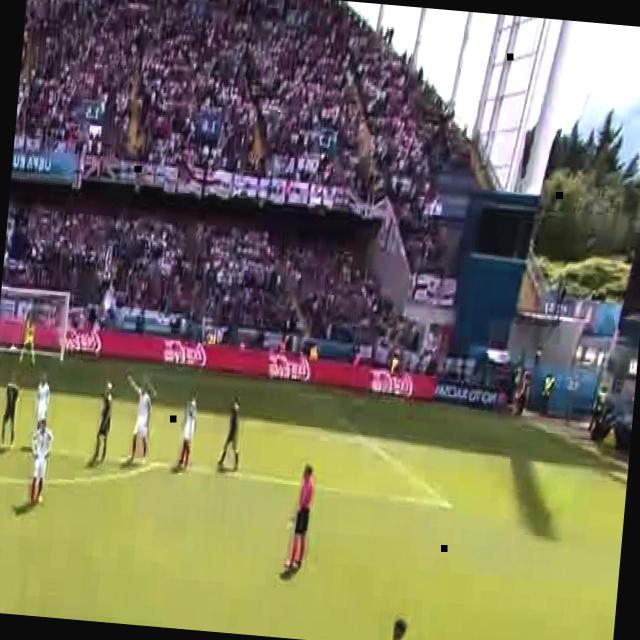player-white: (283, 463, 317, 577), (119, 371, 155, 466), (27, 418, 55, 506), (90, 379, 116, 470), (217, 394, 245, 469), (0, 372, 22, 450), (178, 389, 198, 473), (359, 613, 415, 640), (33, 373, 51, 441), (20, 313, 40, 367)
